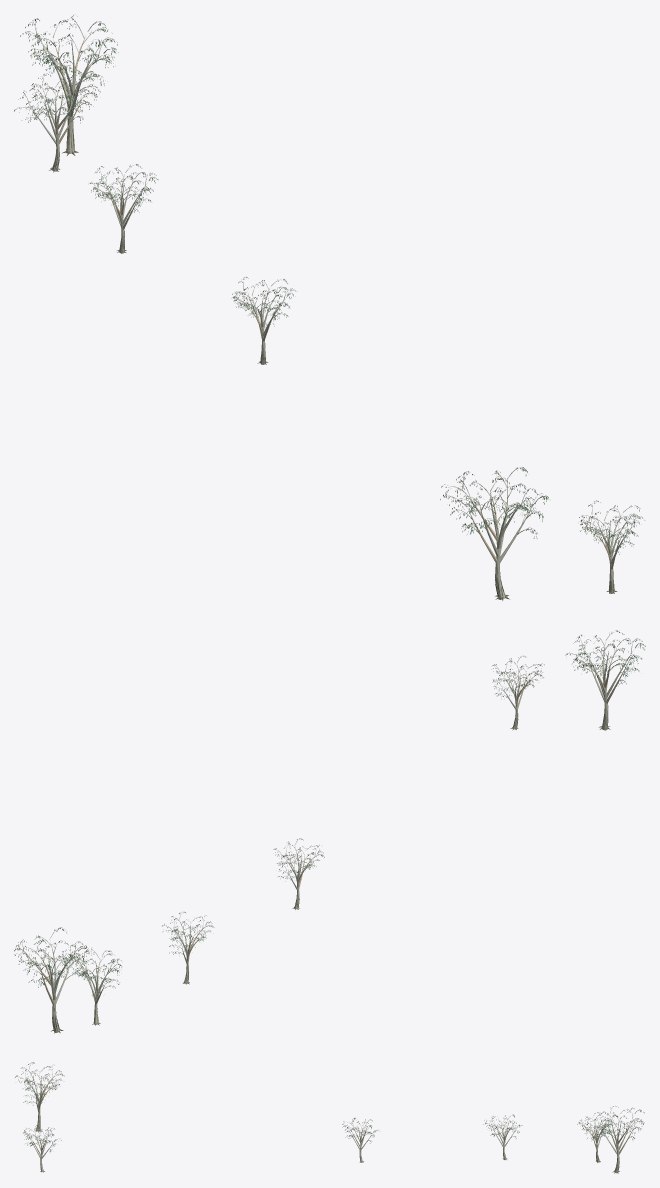
The model's file is ecology-eucalyptus-mid-6.glb.
3 views of the same model, one above another, from view 1: azimuth 30°, elevation 25°; view 2: azimuth 150°, elevation 25°; view 3: azimuth 270°, elevation 25° (orthographic). The views are drawn at different scales.
Visible parts, largest first — view 1: eucalyptus-mid-39, eucalyptus-mid-51, eucalyptus-mid-40, eucalyptus-mid-50, eucalyptus-mid-41, eucalyptus-mid-44; view 2: eucalyptus-mid-39, eucalyptus-mid-51, eucalyptus-mid-40, eucalyptus-mid-50, eucalyptus-mid-44, eucalyptus-mid-41; view 3: eucalyptus-mid-51, eucalyptus-mid-39, eucalyptus-mid-50, eucalyptus-mid-41, eucalyptus-mid-44, eucalyptus-mid-40.
Boxes of the visible parts, x1,y1,x2,y2 form: eucalyptus-mid-39: (440,467,548,600); eucalyptus-mid-51: (20,15,118,155); eucalyptus-mid-40: (14,73,97,172); eucalyptus-mid-50: (579,500,644,593); eucalyptus-mid-41: (90,164,158,253); eucalyptus-mid-44: (231,277,295,364); eucalyptus-mid-39: (565,630,645,730); eucalyptus-mid-51: (14,927,91,1033); eucalyptus-mid-40: (68,948,121,1025); eucalyptus-mid-50: (491,656,544,730); eucalyptus-mid-44: (273,838,324,909); eucalyptus-mid-41: (162,912,214,984); eucalyptus-mid-51: (587,1106,644,1173); eucalyptus-mid-39: (15,1062,64,1132); eucalyptus-mid-50: (23,1125,61,1172); eucalyptus-mid-41: (483,1114,522,1159); eucalyptus-mid-44: (342,1118,378,1162); eucalyptus-mid-40: (577,1112,614,1162).
Size of the model in its own units: 30.48 by 17.63 by 137.
